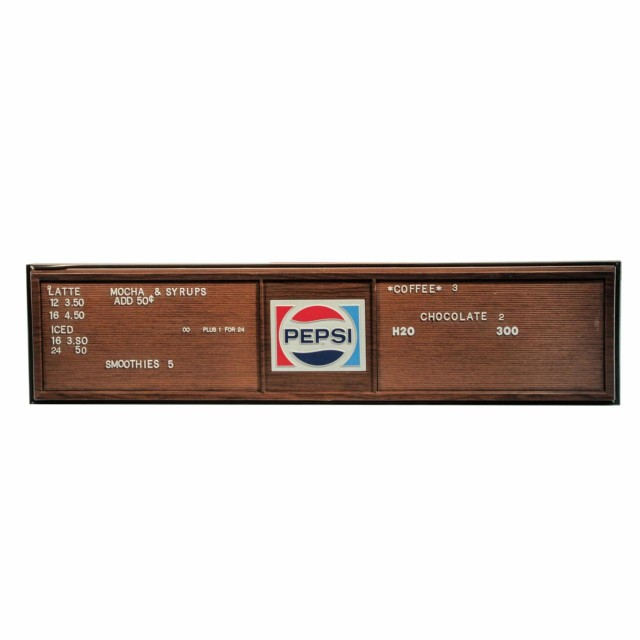pepsi: (272, 299, 364, 372)
